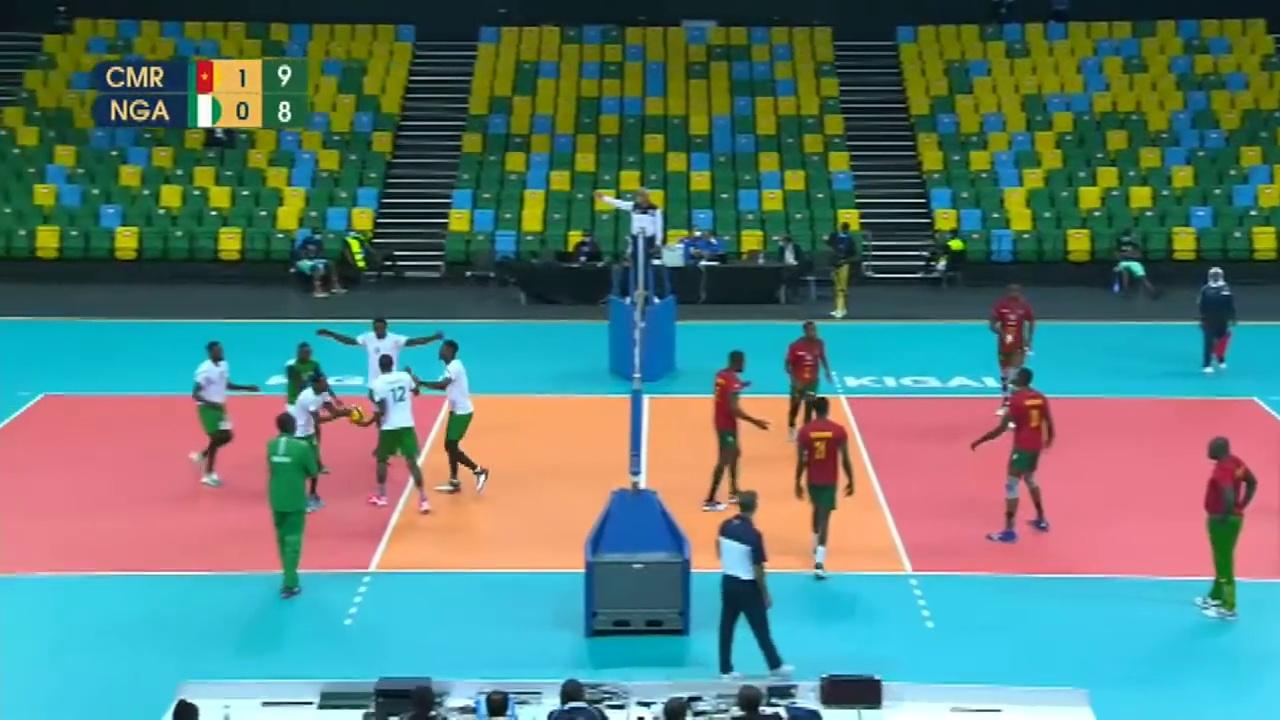player: (966, 367, 1055, 539), (792, 401, 856, 574), (420, 339, 490, 493), (359, 355, 427, 512), (705, 351, 770, 508), (356, 316, 420, 464), (281, 376, 334, 513), (990, 276, 1044, 409), (780, 319, 831, 454), (283, 340, 335, 471), (190, 341, 234, 485)
refree: (714, 494, 795, 678), (605, 189, 664, 294), (1198, 267, 1239, 374)
